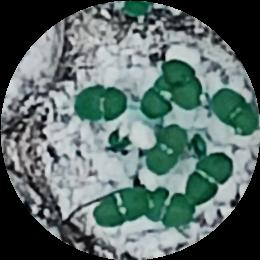Basil: (211, 84, 257, 137), (90, 188, 149, 226), (138, 188, 195, 227), (75, 84, 128, 124), (189, 152, 231, 202), (146, 127, 189, 174), (157, 63, 203, 100), (141, 77, 176, 118)
